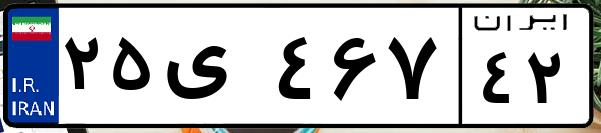2: (57, 26, 110, 100), (525, 38, 570, 115)
4: (270, 28, 330, 110), (475, 38, 525, 113)
5: (110, 28, 158, 98)
6: (330, 28, 385, 110)
7: (385, 28, 445, 110)
ی: (158, 20, 270, 120)
